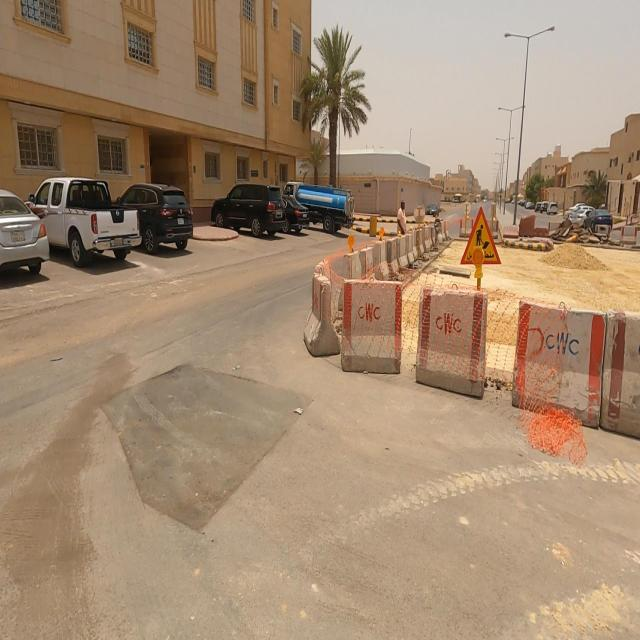Graffiti: (547, 331, 581, 357), (438, 315, 463, 337), (358, 305, 382, 323)
